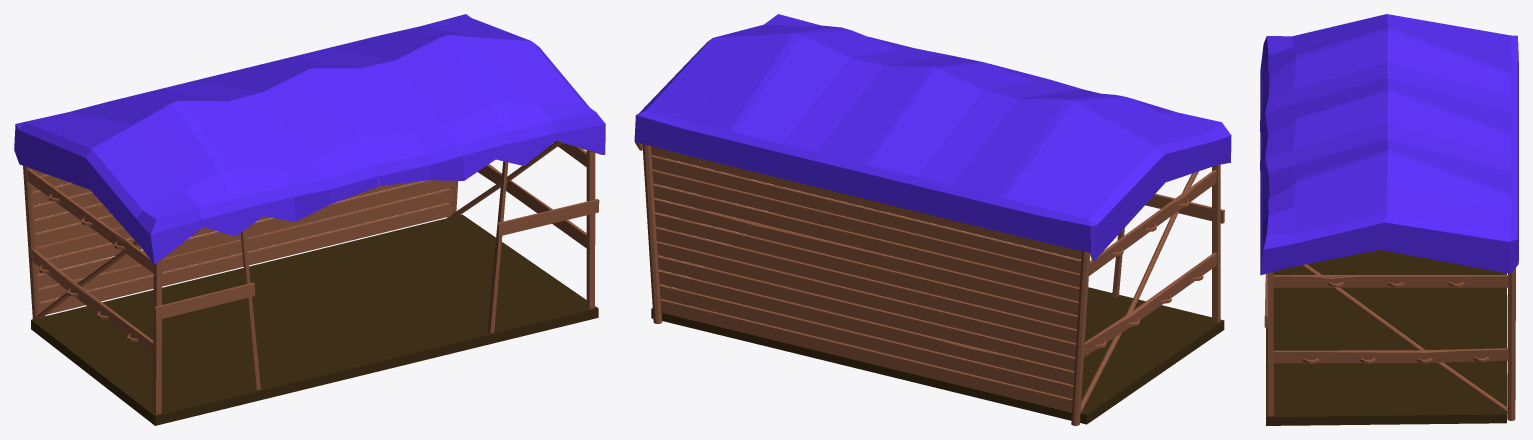
The model's file is Pergola 1.fbx.
The picture shows the model from 3 angles, left to right: view 1: azimuth 30°, elevation 25°; view 2: azimuth 150°, elevation 25°; view 3: azimuth 270°, elevation 25°; orthographic projection. The views are drawn at different scales.
Visible parts, largest first — view 1: Pergola 1; view 2: Pergola 1; view 3: Pergola 1.
Boxes of the visible parts, bbox=[...] form: Pergola 1: bbox=[14, 14, 605, 425]; Pergola 1: bbox=[634, 14, 1231, 425]; Pergola 1: bbox=[1260, 14, 1518, 425].
Size of the model in its own units: 685 by 366 by 364.
